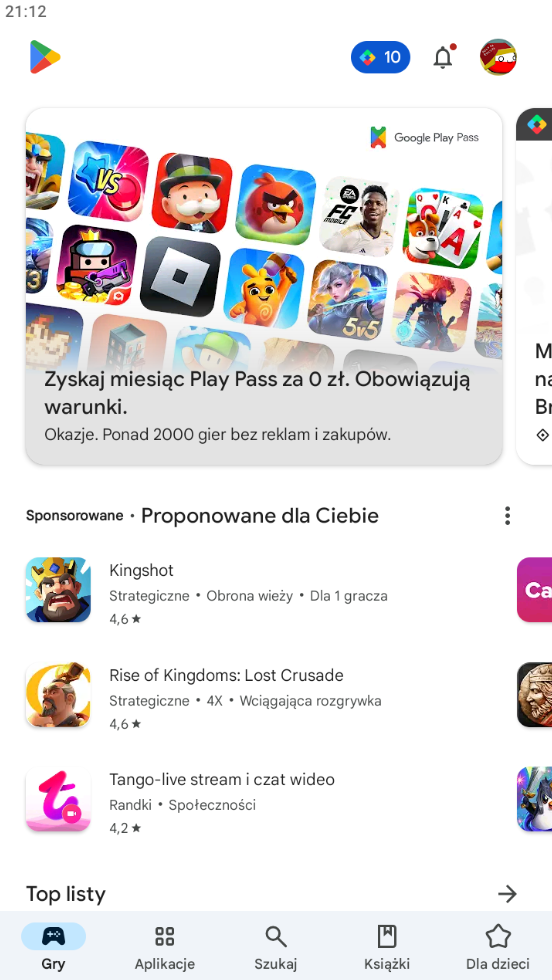store_logo: (17, 29, 70, 84)
